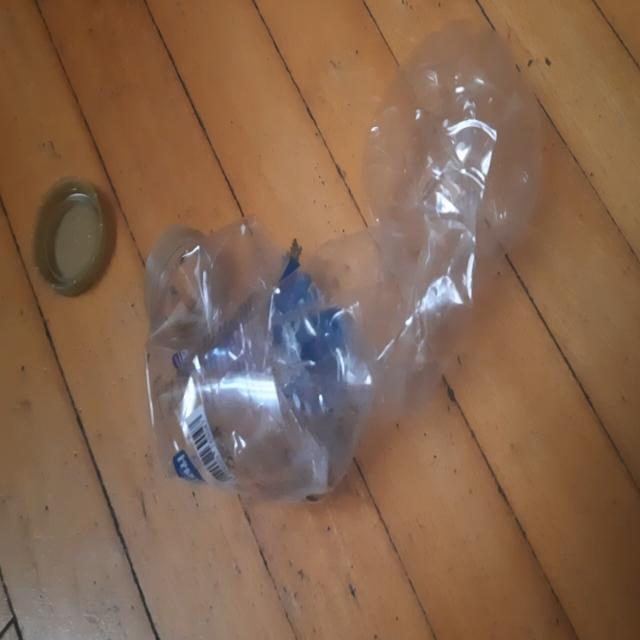Plastic: (144, 18, 542, 502)
